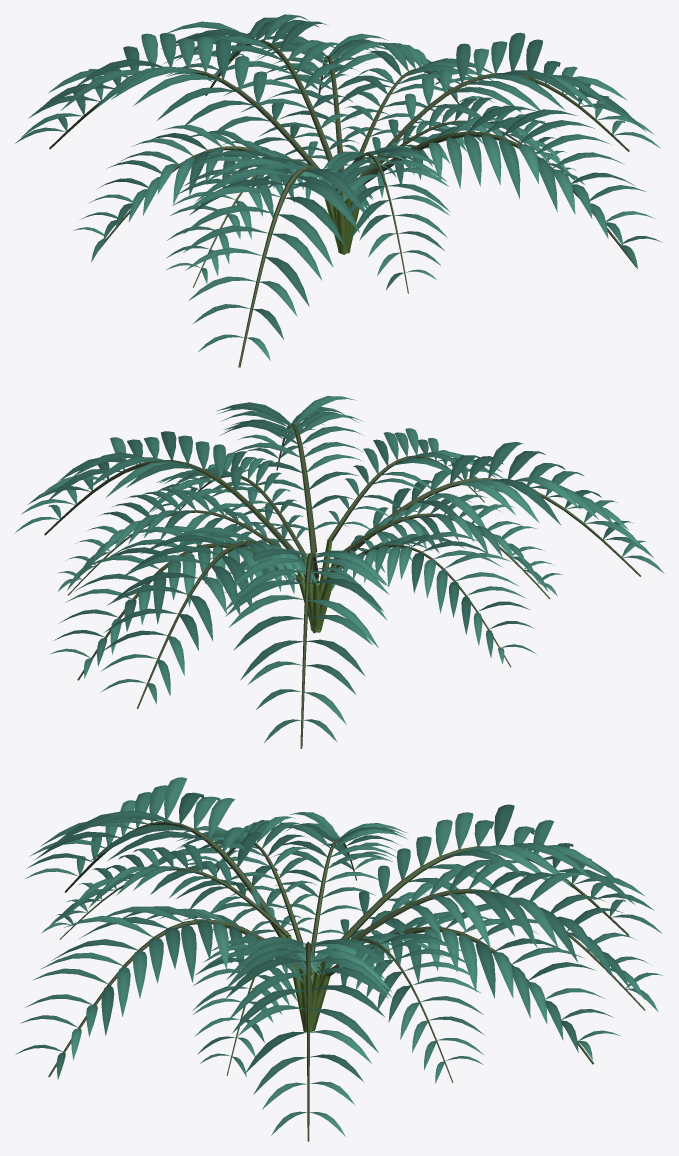
Rendered from Sword Fern.glb.
The picture shows the model from 3 angles, top to bottom: view 1: azimuth 30°, elevation 25°; view 2: azimuth 150°, elevation 25°; view 3: azimuth 270°, elevation 25°; orthographic projection. The views are drawn at different scales.
Parts seen in each view (by area): view 1: Sword Fern; view 2: Sword Fern; view 3: Sword Fern.
Part boxes in pixels (left/top/right/bottom): Sword Fern: left=15, top=14, right=662, bottom=367; Sword Fern: left=14, top=396, right=664, bottom=748; Sword Fern: left=15, top=777, right=662, bottom=1141.
Size of the model in its own units: 2.57 by 0.6924 by 2.53.
